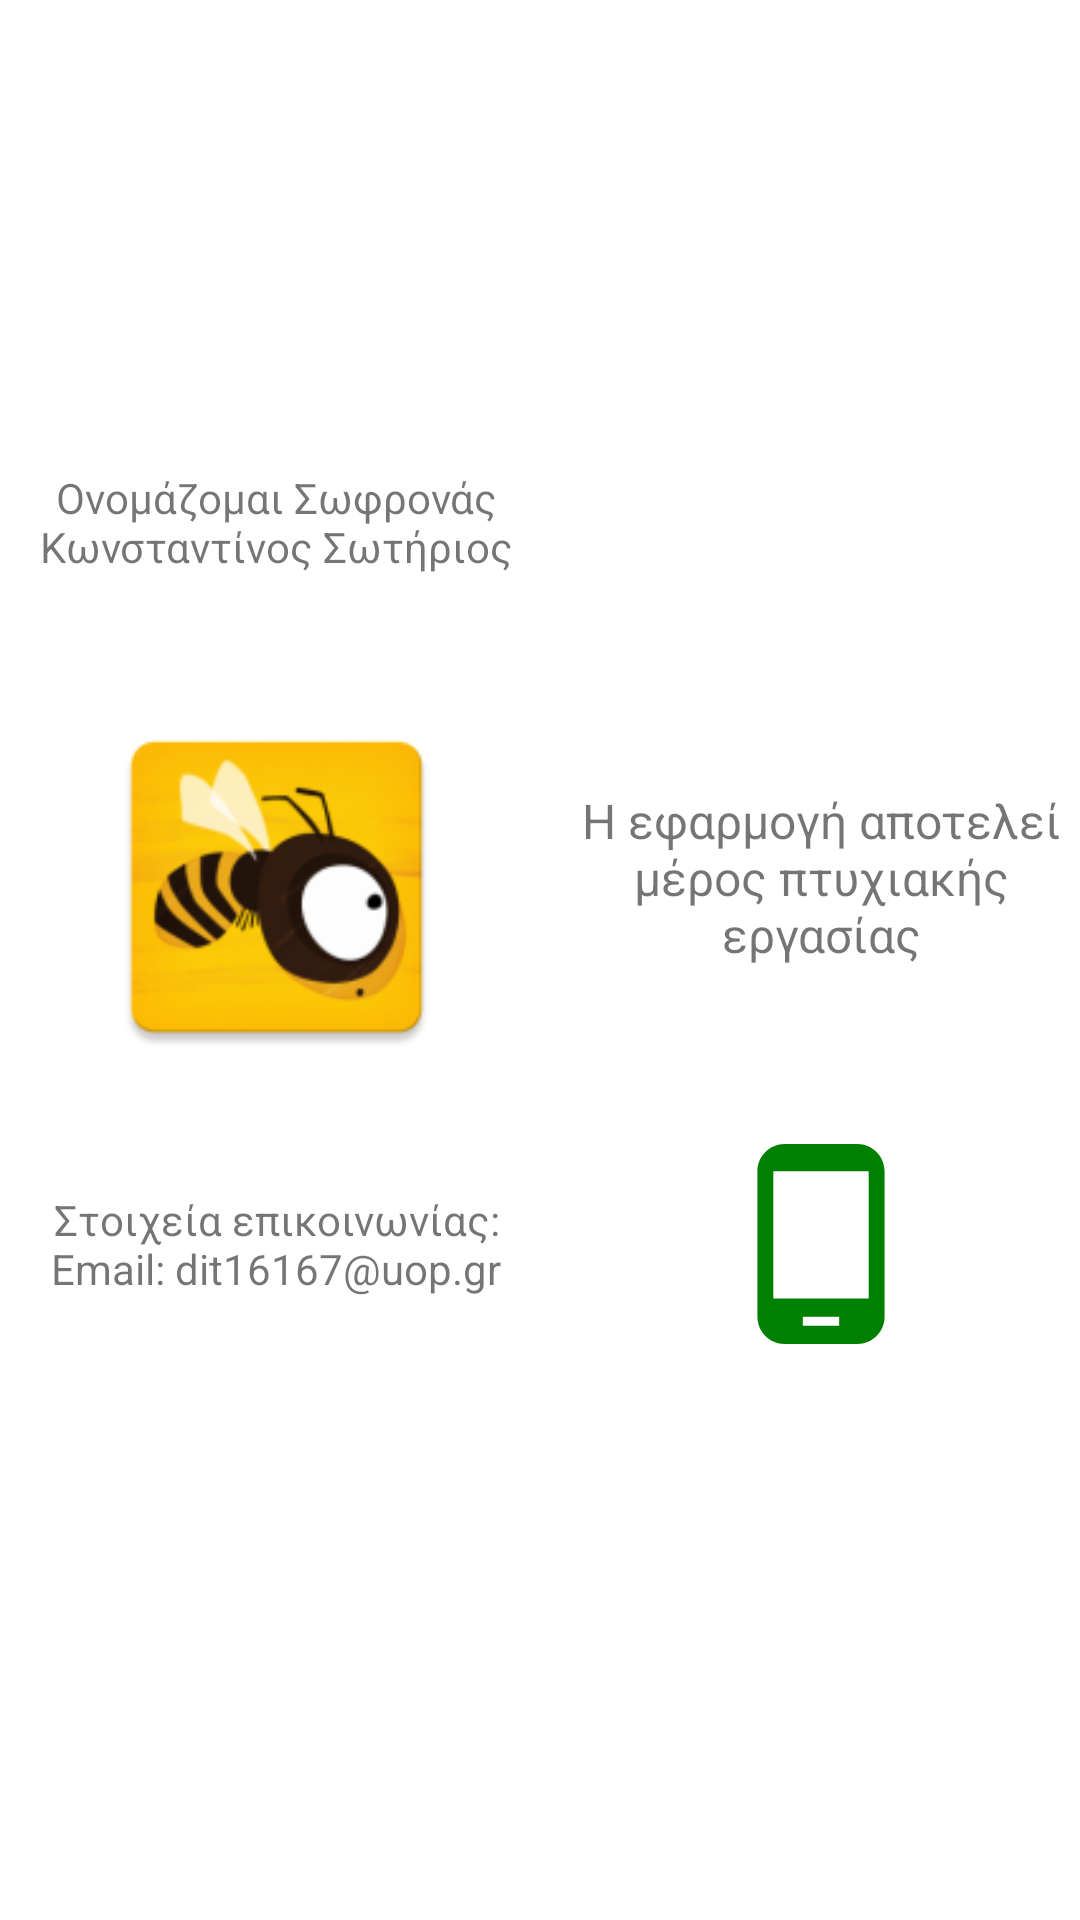

Icon click points for this 1080 × 1920 phone screenshot, format point (x, y):
phone: point (821, 1244)
